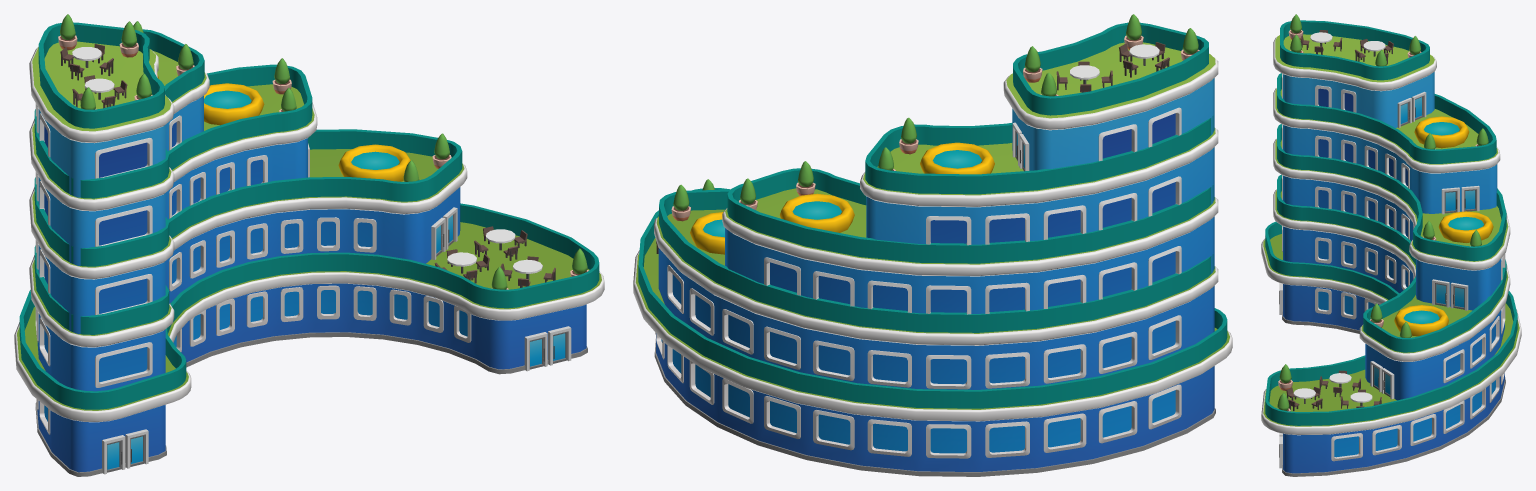
Rendered from elite_residental_building_001.glb.
3 renders of one model, left to right at view 1: azimuth 30°, elevation 25°; view 2: azimuth 150°, elevation 25°; view 3: azimuth 270°, elevation 25°, orthographic. The views are drawn at different scales.
Visible parts, largest first — view 1: elite_residental_building_001; view 2: elite_residental_building_001; view 3: elite_residental_building_001.
Part boxes in pixels (x1,y1,x2,y2): elite_residental_building_001: [14, 14, 604, 476]; elite_residental_building_001: [633, 14, 1232, 476]; elite_residental_building_001: [1261, 14, 1521, 476].
Size of the model in its own units: 41.93 by 27.89 by 23.25.
Materials: 2 (2 with a texture image).
